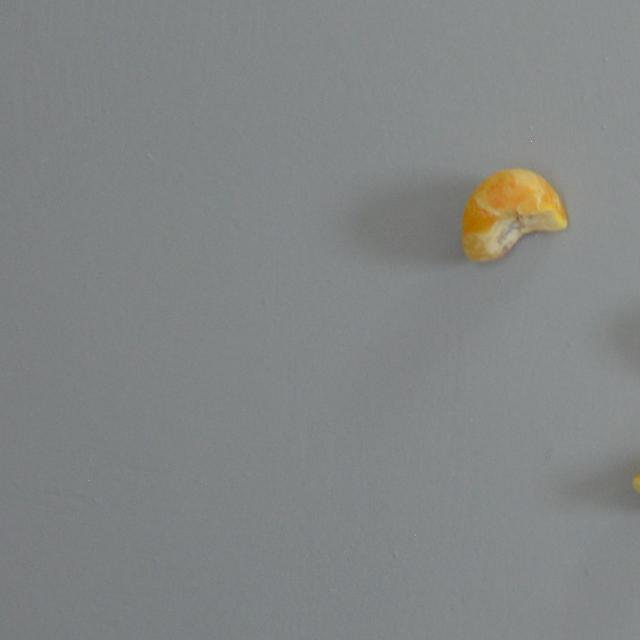dañado: (460, 164, 566, 263)
